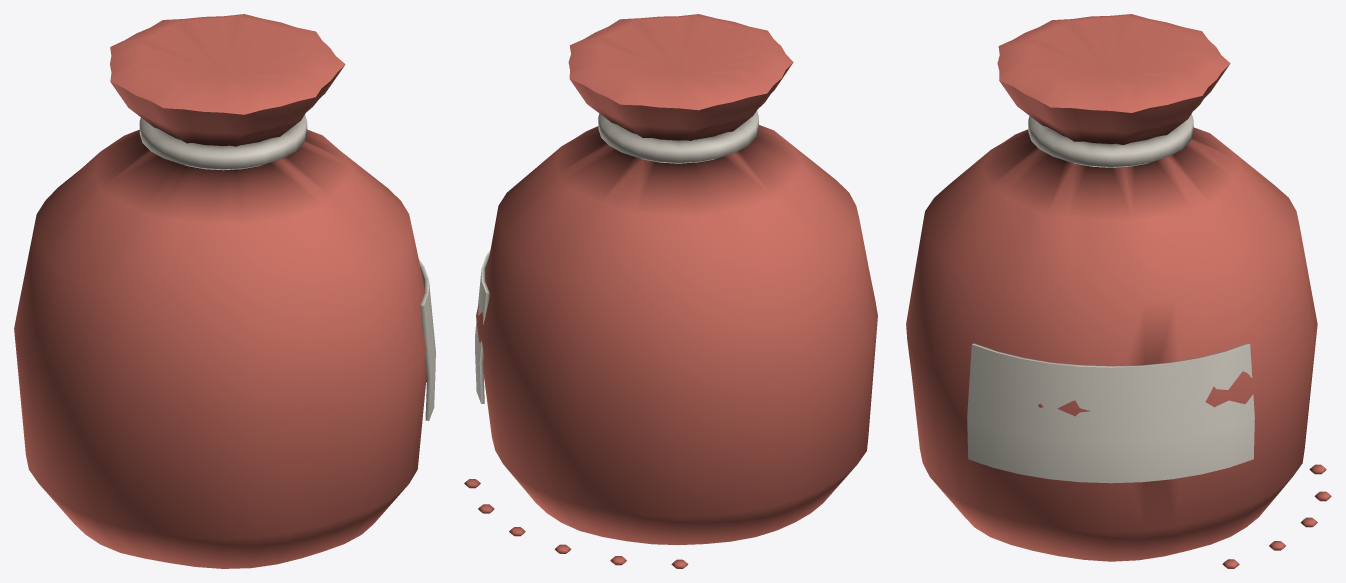
The model's file is food_rice.glb.
3 renders of one model, left to right at view 1: azimuth 30°, elevation 25°; view 2: azimuth 150°, elevation 25°; view 3: azimuth 270°, elevation 25°, orthographic. The views are drawn at different scales.
Visible parts, largest first — view 1: PART; view 2: PART; view 3: PART.
Boxes of the visible parts, x1=… form: PART: x1=14, y1=14, x2=435, y2=568; PART: x1=464, y1=14, x2=877, y2=568; PART: x1=906, y1=14, x2=1331, y2=568.
Size of the model in its own units: 0.1326 by 0.156 by 0.1362.
